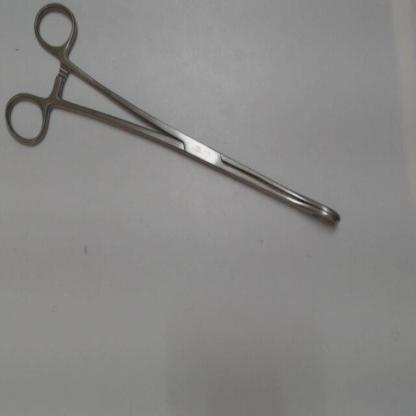Sponge Forceps: (2, 0, 349, 238)
